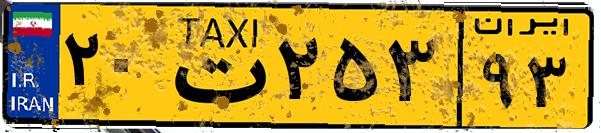0: (110, 28, 158, 98)
2: (270, 28, 330, 110), (57, 26, 110, 100)
3: (385, 28, 445, 110), (525, 38, 570, 115)
5: (330, 28, 385, 110)
9: (475, 38, 525, 113)
ت: (158, 12, 270, 120)
